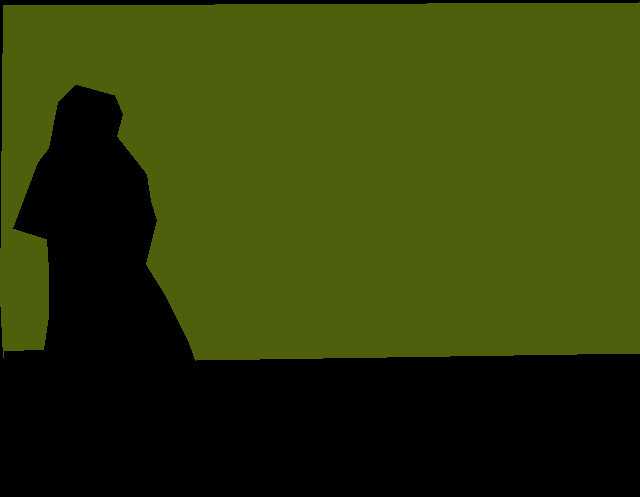Train: (0, 2, 640, 361)
